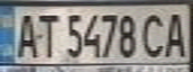4: (81, 10, 103, 58)
5: (60, 10, 84, 58)
7: (100, 10, 121, 58)
8: (115, 10, 142, 58)
A: (160, 8, 193, 59), (12, 10, 39, 60)
C: (139, 10, 169, 58)
T: (33, 9, 60, 60)
